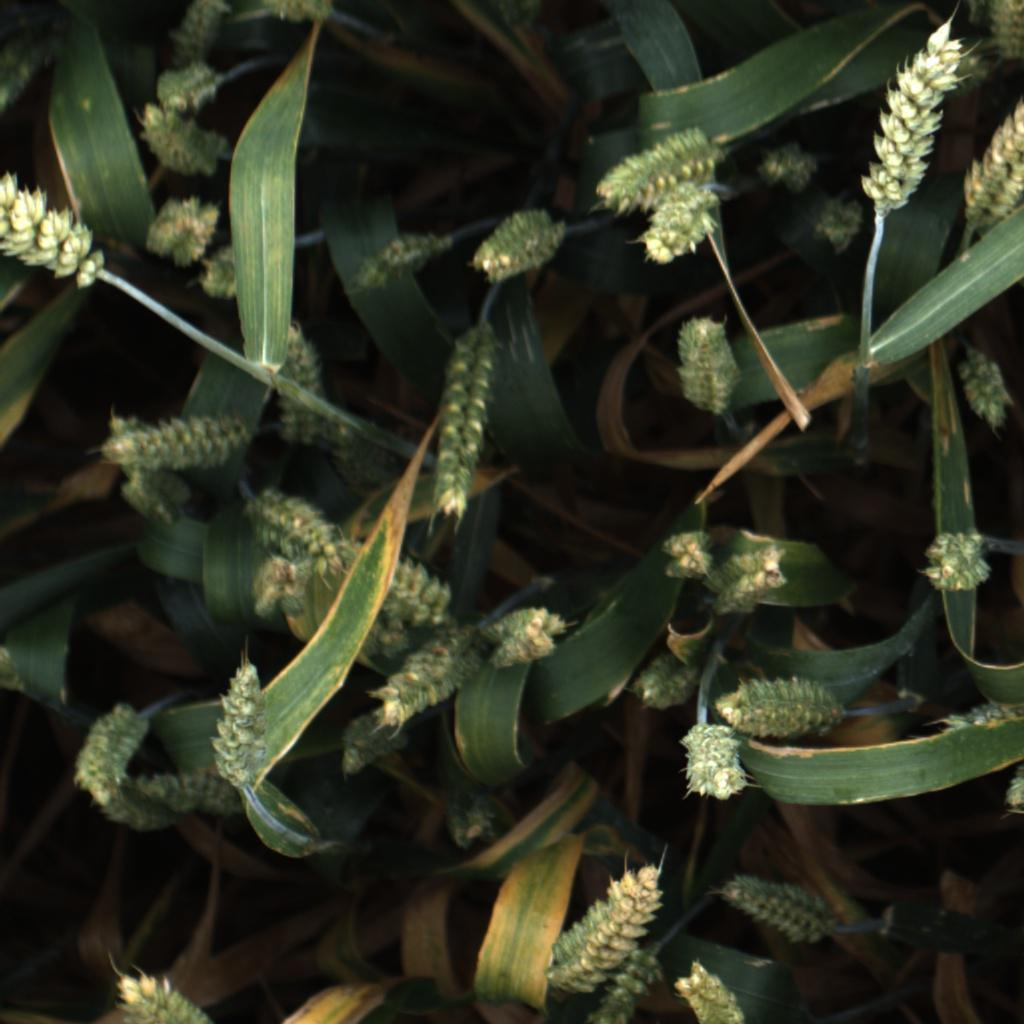0-0: (859, 16, 972, 210), (541, 865, 665, 992), (1, 170, 107, 300), (426, 338, 494, 519), (589, 129, 734, 209), (100, 407, 252, 477), (960, 68, 1024, 227), (368, 636, 478, 727), (628, 184, 732, 276), (717, 870, 842, 941), (717, 675, 849, 740), (475, 199, 573, 286), (211, 660, 275, 785), (256, 494, 350, 574), (70, 700, 138, 808), (129, 105, 221, 180), (676, 314, 743, 414), (277, 321, 331, 445), (108, 962, 216, 1024), (344, 225, 438, 294), (681, 721, 751, 809), (709, 545, 789, 621), (954, 345, 1016, 438), (146, 191, 222, 266), (484, 602, 571, 667), (115, 462, 197, 527), (335, 704, 404, 781), (142, 766, 243, 818), (379, 560, 459, 625), (934, 682, 1024, 738), (919, 526, 993, 594), (677, 958, 750, 1024), (590, 952, 656, 1024), (247, 553, 310, 628), (627, 648, 703, 709), (151, 62, 229, 116), (162, 0, 234, 52), (437, 797, 504, 851), (657, 521, 715, 582), (810, 191, 862, 258), (761, 141, 819, 193), (192, 243, 242, 302), (982, 0, 1024, 58)
